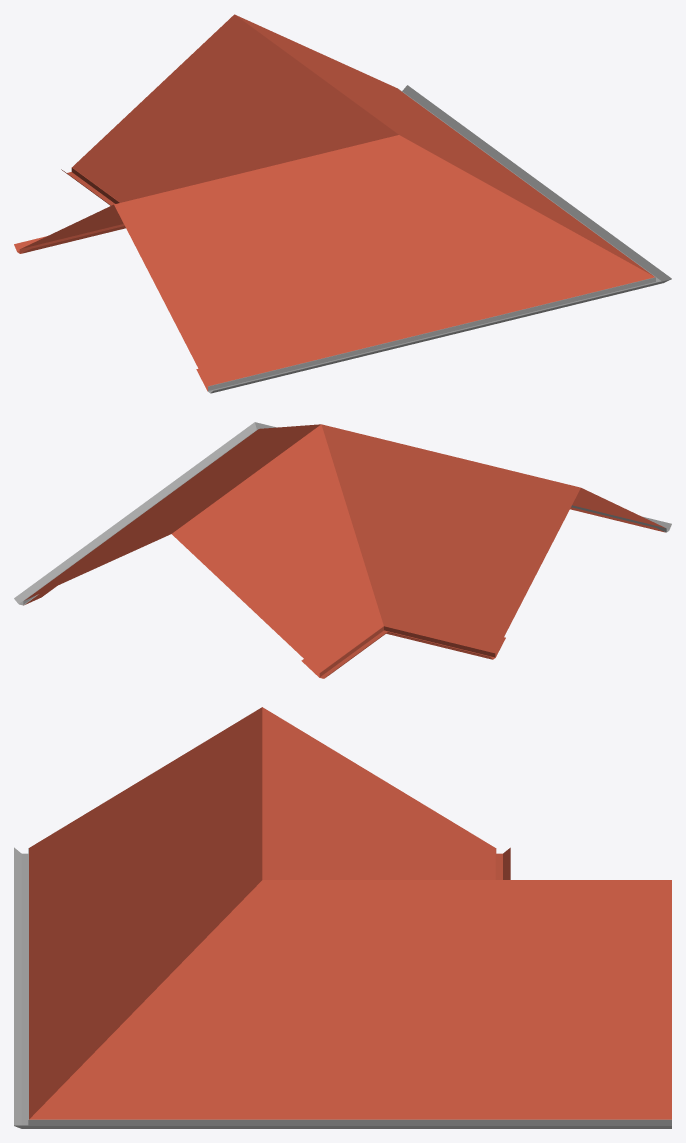
Rendered from MESH_ENV(Telhado_9x9_Formato_L).fbx.
The picture shows the model from 3 angles, top to bottom: view 1: azimuth 30°, elevation 25°; view 2: azimuth 150°, elevation 25°; view 3: azimuth 270°, elevation 25°; orthographic projection. The views are drawn at different scales.
Parts seen in each view (by area): view 1: MESH_ENV(Telhado_9x9_Formato_L)_LOD0; view 2: MESH_ENV(Telhado_9x9_Formato_L)_LOD0; view 3: MESH_ENV(Telhado_9x9_Formato_L)_LOD0.
Part boxes in pixels (x1,y1,x2,y2): MESH_ENV(Telhado_9x9_Formato_L)_LOD0: (14, 14, 671, 393); MESH_ENV(Telhado_9x9_Formato_L)_LOD0: (14, 422, 671, 678); MESH_ENV(Telhado_9x9_Formato_L)_LOD0: (14, 707, 671, 1128).
Bounding box in the file's own units: 964 × 238 × 964.
